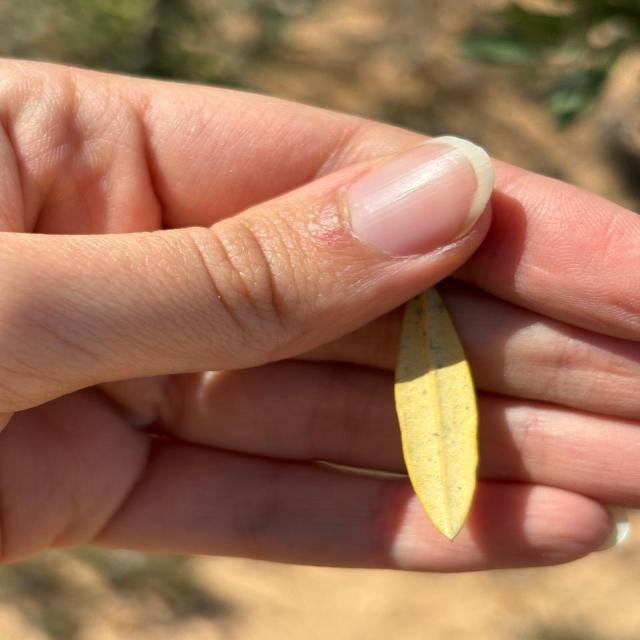OlivePeacockSpot: (394, 288, 478, 536)
